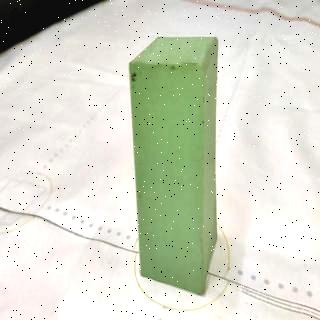greenbox: (130, 36, 218, 295)
